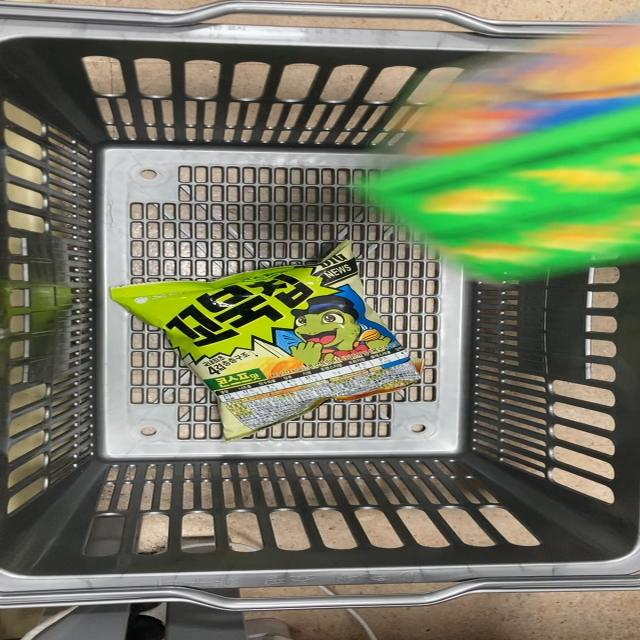ggobukchip: (80, 239, 426, 453)
goraebob: (348, 18, 640, 301)
